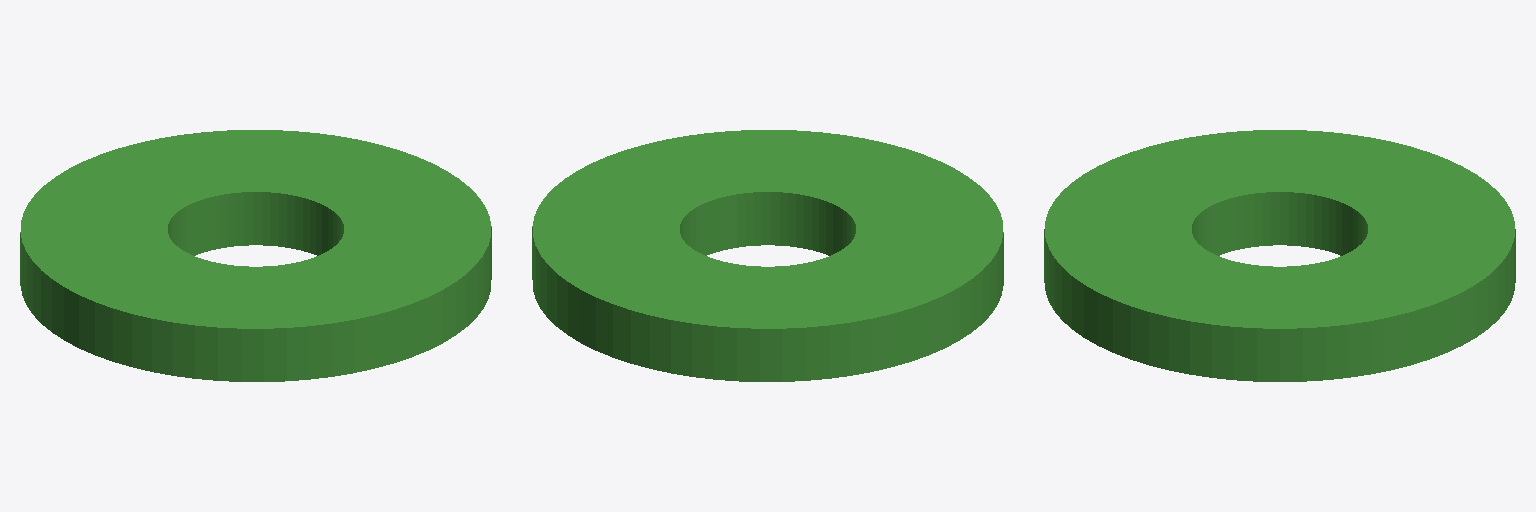
URDF robot description (disk2.urdf):
<?xml version="0.0" ?>
<robot name="disk2.urdf">
  <link name="baseLink">
    <contact>
      <lateral_friction value="1.0"/>
      <rolling_friction value="0.0001"/>
      <inertia_scaling value="3.0"/>
    </contact>
    <inertial>
      <origin rpy="0 0 0" xyz="0 0 0"/>
       <mass value=".1"/>
       <inertia ixx="1" ixy="0" ixz="0" iyy="1" iyz="0" izz="1"/>
    </inertial>
    <visual>
      <origin rpy="0 0 0" xyz="0 0 0"/>
      <geometry>
         <mesh filename="disk2.obj" scale="0.001 0.001 0.001"/>
      </geometry>
      <material name="green">
        <color rgba="0.34901961 0.6627451 0.30980392 1"/>
      </material>
    </visual>
    <collision>
      <origin rpy="0 0 0" xyz="0 0 0"/>
      <geometry>
	 	    <mesh filename="disk2.obj" scale="0.001 0.001 0.001"/>
      </geometry>
    </collision>
  </link>
</robot>


--- What the picture shows (computed from the rendered views, not written in the file) ---
The picture shows the robot from 3 angles, left to right: view 1: azimuth 30°, elevation 25°; view 2: azimuth 150°, elevation 25°; view 3: azimuth 270°, elevation 25°; orthographic projection.
Model disk2.urdf with 1 links and 0 joints (none), rooted at baseLink, posed every joint at zero.
Links seen in each view (by area): view 1: baseLink; view 2: baseLink; view 3: baseLink.
Link boxes in pixels (bbox=[...]): baseLink: bbox=[20, 130, 491, 381]; baseLink: bbox=[532, 130, 1003, 381]; baseLink: bbox=[1044, 130, 1515, 381].
Size in the robot's own frame: 0.08 by 0.08 by 0.01 metres.
1 mesh visuals loaded from 1 distinct referenced files (1 OBJ).